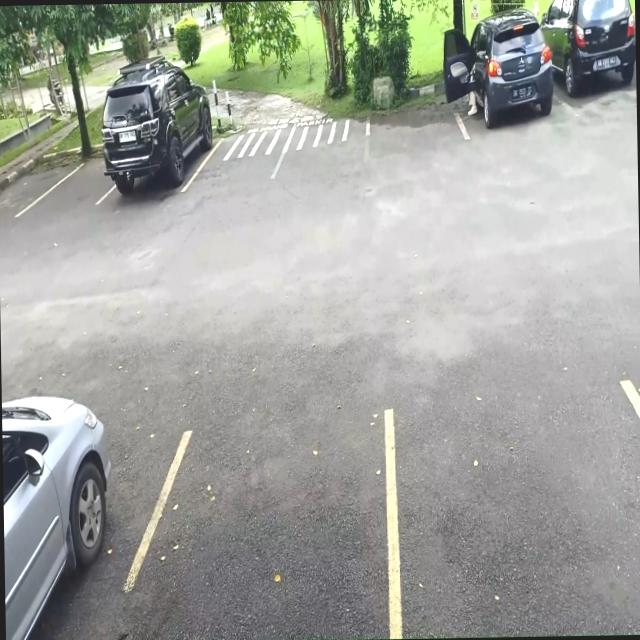car: (98, 84, 212, 202), (456, 24, 555, 139), (551, 0, 635, 117)
free: (391, 388, 640, 638), (158, 417, 395, 640), (43, 158, 108, 214), (0, 163, 57, 218)
